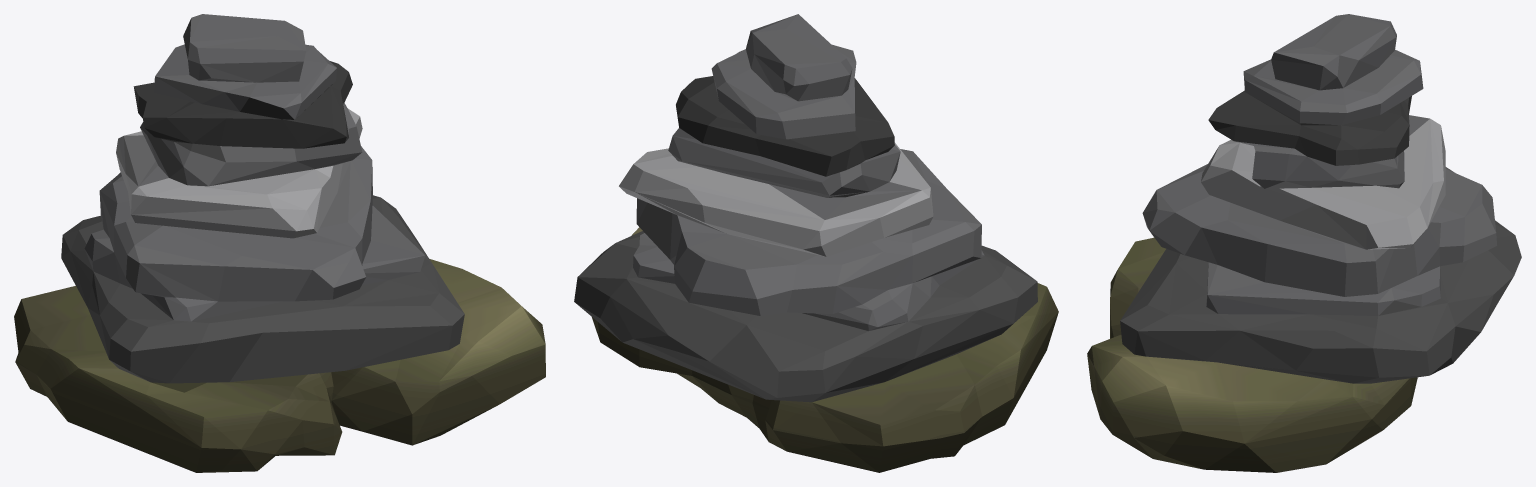
File: EA_Grave_RockStack_01a.fbx
The picture shows the model from 3 angles, left to right: view 1: azimuth 30°, elevation 25°; view 2: azimuth 150°, elevation 25°; view 3: azimuth 270°, elevation 25°; orthographic projection. The views are drawn at different scales.
Parts seen in each view (by area): view 1: EA_Grave_RockStack_01a_LOD0; view 2: EA_Grave_RockStack_01a_LOD0; view 3: EA_Grave_RockStack_01a_LOD0.
Boxes of the visible parts, x1,y1,x2,y2 form: EA_Grave_RockStack_01a_LOD0: (14, 14, 545, 472); EA_Grave_RockStack_01a_LOD0: (574, 14, 1058, 472); EA_Grave_RockStack_01a_LOD0: (1087, 14, 1521, 472).
Size of what is drawn, in the model's own units: 3.64 by 2.72 by 3.2.
